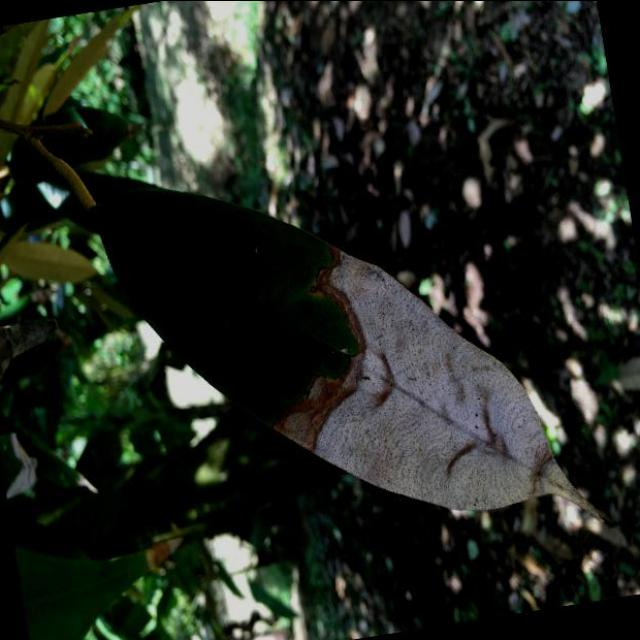Leaf Blight: (82, 114, 618, 596)
